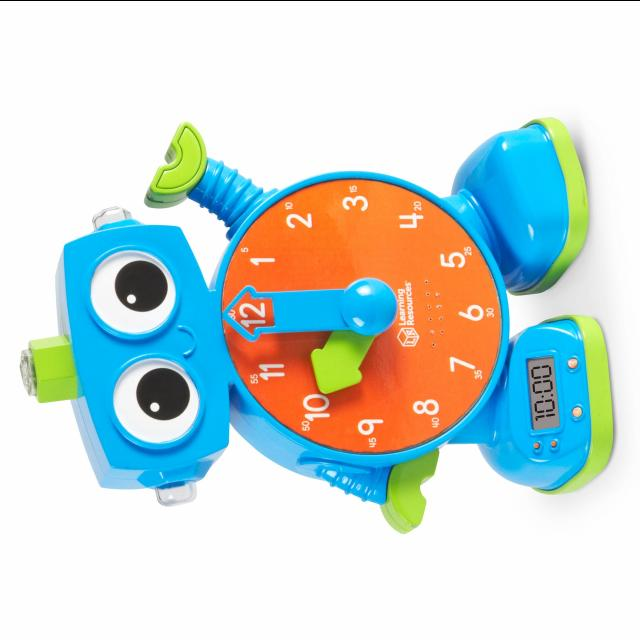clock: (152, 189, 525, 528)
